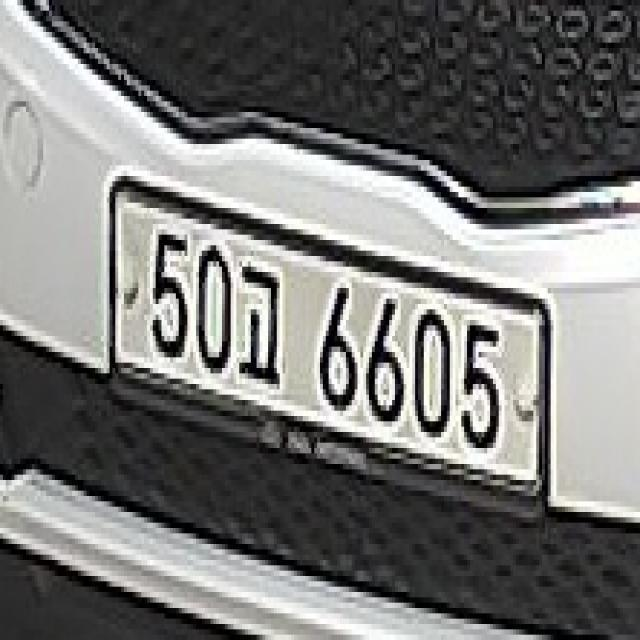0: (414, 307, 454, 452), (196, 240, 232, 384)
5: (458, 312, 506, 459), (148, 237, 188, 361)
6: (318, 279, 360, 422), (364, 293, 406, 433)
go: (238, 255, 282, 397)
license_plate: (102, 175, 553, 515)
